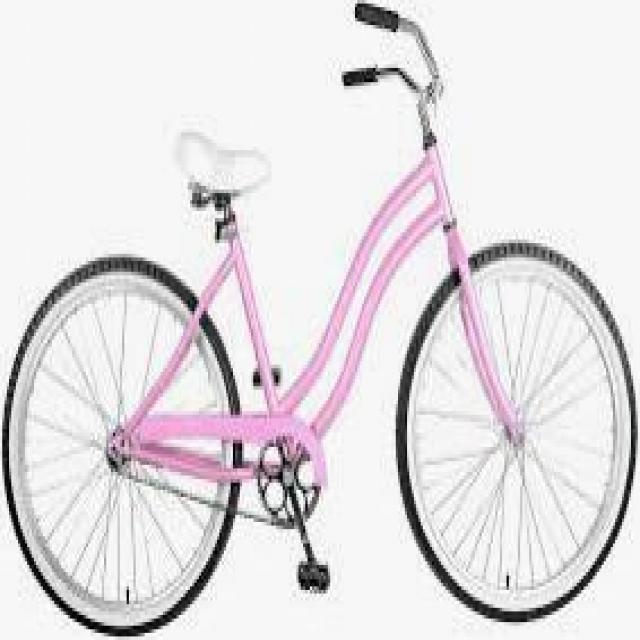bicycle: (17, 1, 635, 605)
